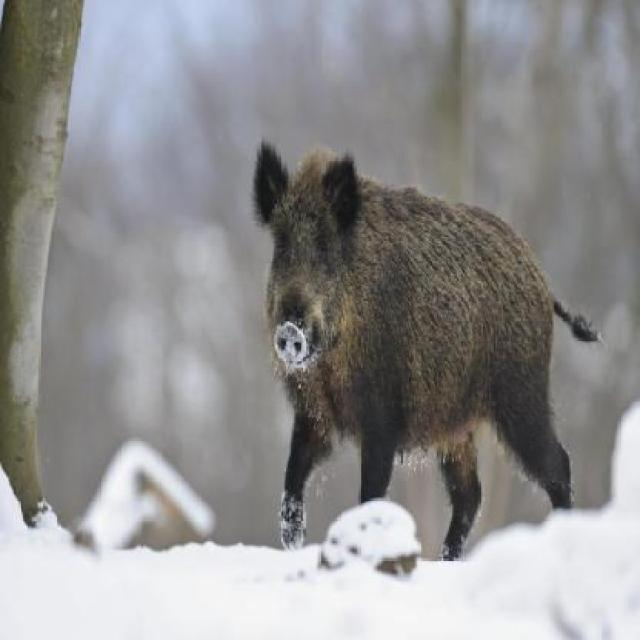wildboar: (248, 133, 606, 575)
